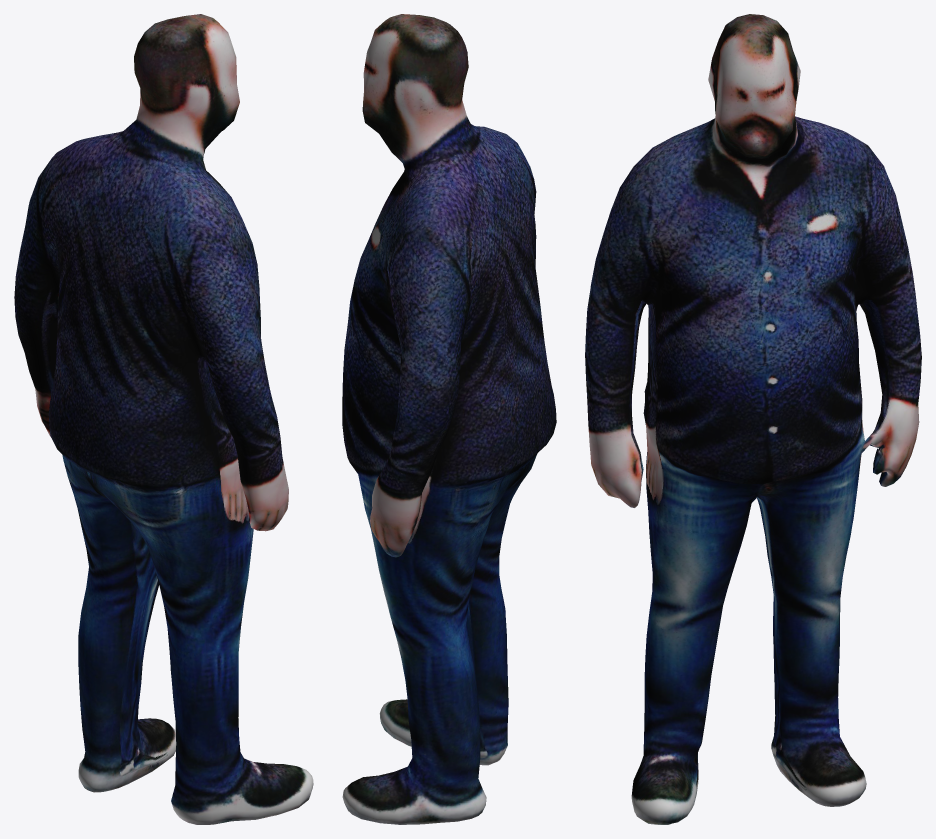
Rendered from tom low.fbx.
3 views of the same model, side by side, from view 1: azimuth 30°, elevation 25°; view 2: azimuth 150°, elevation 25°; view 3: azimuth 270°, elevation 25° (orthographic).
Visible parts, largest first — view 1: mesh; view 2: mesh; view 3: mesh.
Boxes of the visible parts, x1,y1,x2,y2 form: mesh: (14,14,313,824); mesh: (342,14,556,824); mesh: (585,14,921,824).
Size of the model in its own units: 26.51 by 99.94 by 39.37.
